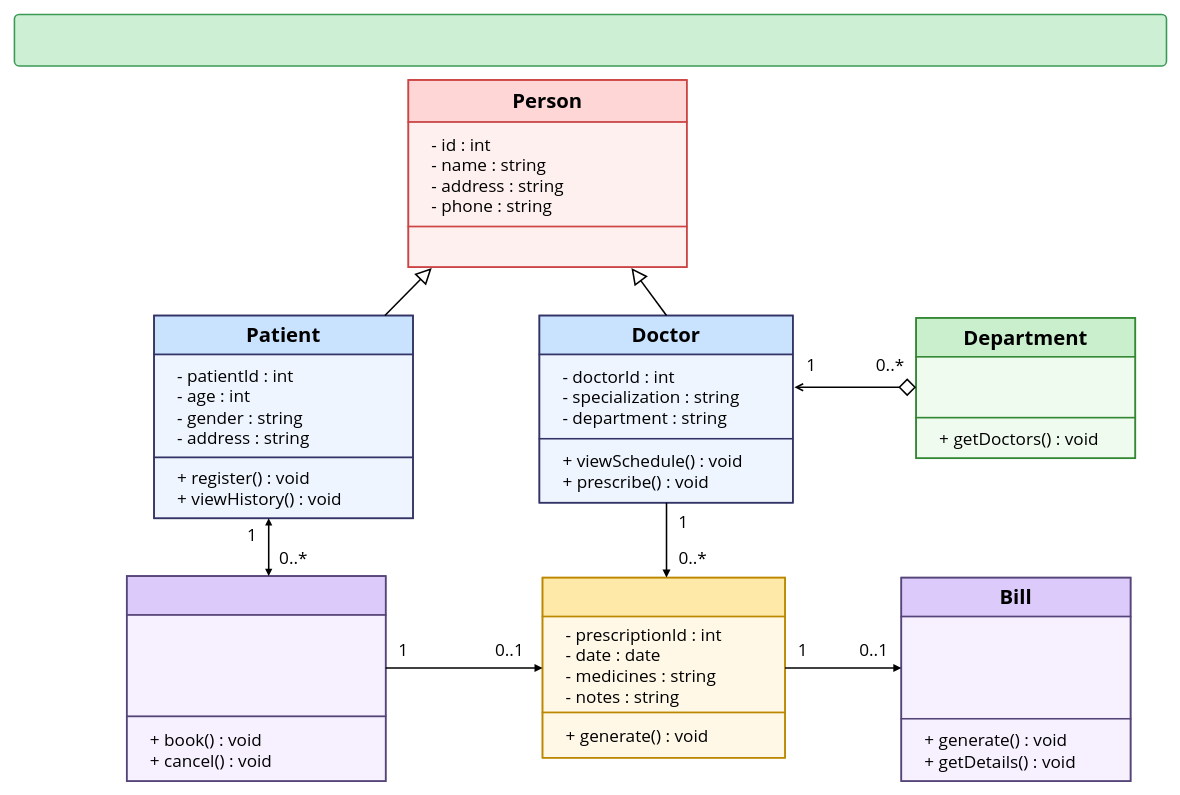
Image size: 1180x795. Some labels were removed from this diagram. Each missing label, with the centre of its shape:
"+ getDetails() : void" goes at pixel 547 246.
"- appointmentId : int - date : date - time : string - status : string" goes at pixel 256 665.
"- billId : int - amount : float - date : date - status : string" goes at pixel 1015 667.
"- deptId : int - name : string" goes at pixel 1025 387.
"Appointment" goes at pixel 256 595.
"Prescription" goes at pixel 663 596.
"Q2. Hospital Management System — Class Diagram" goes at pixel 590 39.
